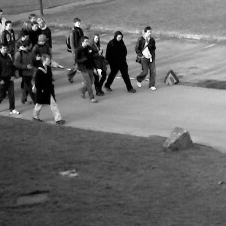person: (33, 54, 65, 124), (106, 30, 136, 92), (75, 36, 101, 103), (16, 39, 38, 104), (135, 26, 157, 90), (1, 43, 20, 116), (67, 16, 86, 84), (90, 33, 106, 95), (2, 20, 18, 66), (31, 34, 50, 58), (38, 17, 52, 35), (1, 7, 8, 42), (18, 28, 31, 43), (29, 22, 40, 37), (29, 12, 38, 22)
